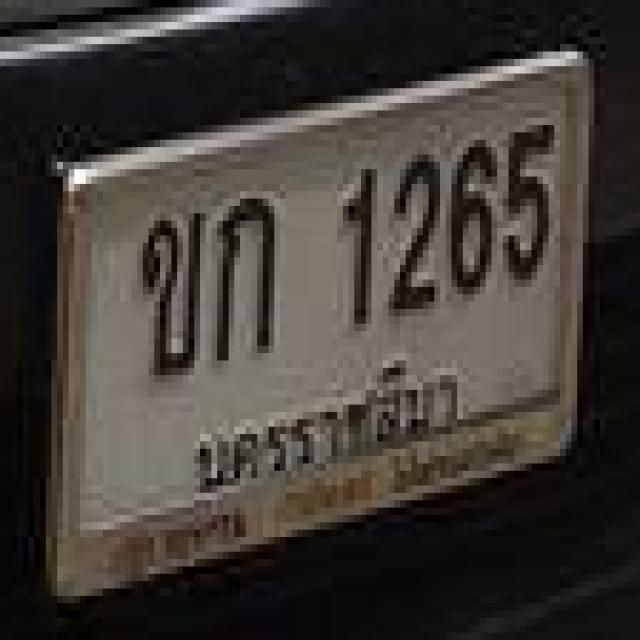license_plate: (33, 36, 590, 613)
